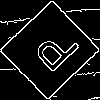P: (25, 25, 82, 81)
